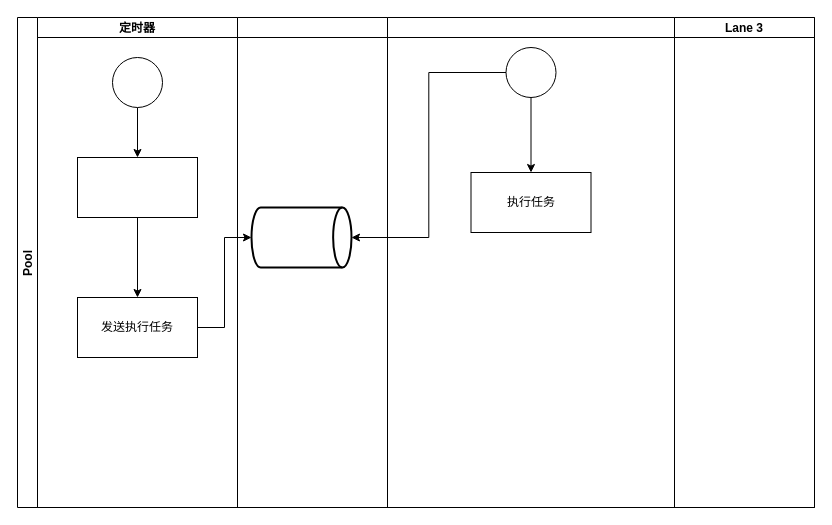
Image size: 832x525. Some labels were removed from this diagram. The shapes that lost their labels are listed below. From the top down, each one's box as (x1, y1, x2, y2) in pixels, then its label:
(76, 156, 198, 218): 读取规则
(236, 16, 388, 508): mq
(386, 16, 674, 508): 执行器
